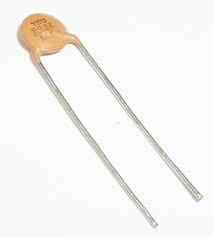ceramic capacitor: (7, 8, 99, 97)
